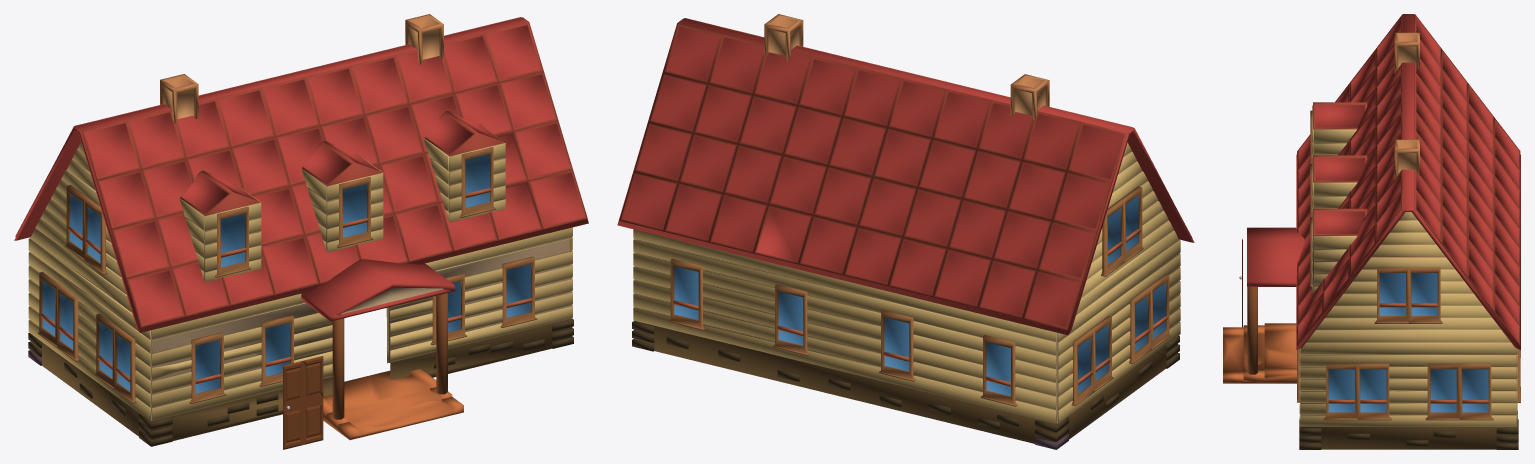
The model's file is home.fbx.
3 views of the same model, side by side, from view 1: azimuth 30°, elevation 25°; view 2: azimuth 150°, elevation 25°; view 3: azimuth 270°, elevation 25° (orthographic). The views are drawn at different scales.
Visible parts, largest first — view 1: House_4, door; view 2: House_4; view 3: House_4.
Part boxes in pixels (x1,y1,x2,y2): House_4: (14, 14, 588, 446); door: (283, 356, 323, 449); House_4: (617, 14, 1194, 449); House_4: (1223, 14, 1520, 449).
Bounding box in the file's own units: 1381 × 891 × 889.
